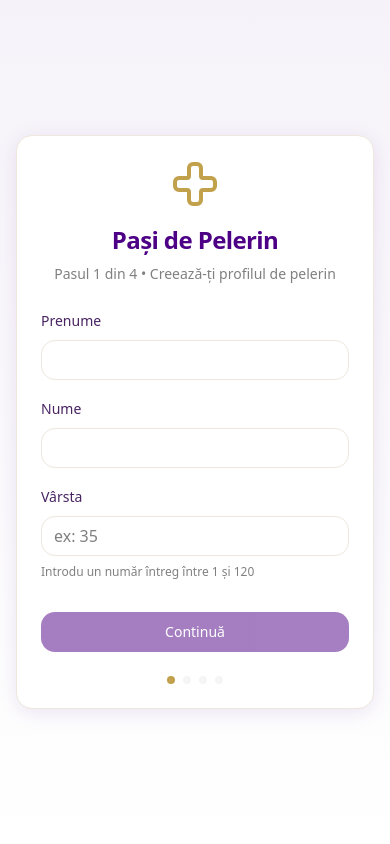
Test case: Onboarding Flow - UI Integration › navigates from step 1 to step 2
Type "Ion" into the field labelled "Prenume".
click(195, 360); type("Ion")  # box [41,340,349,380]
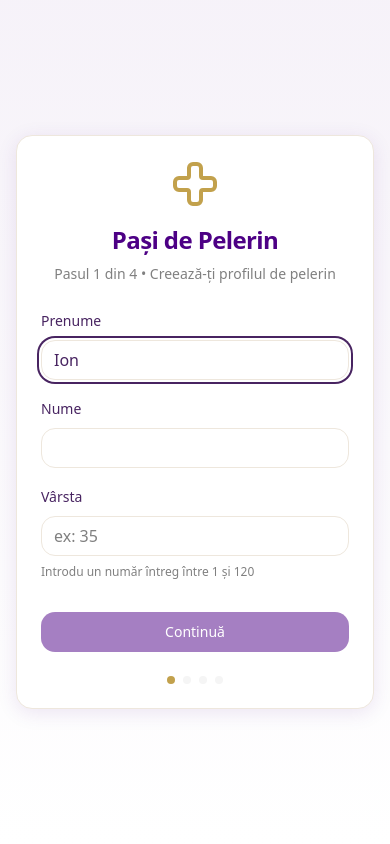
Type "Popescu" into the field labelled "Nume".
click(195, 448); type("Popescu")  # box [41,428,349,468]
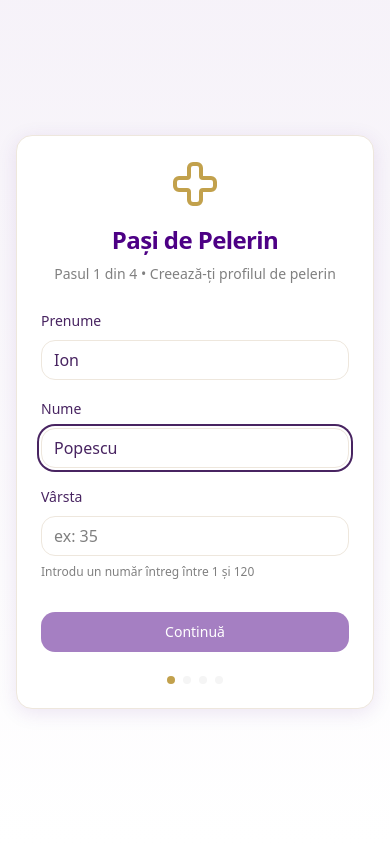
Type "30" into the field labelled "Vârsta".
click(195, 536); type("30")  # box [41,516,349,556]
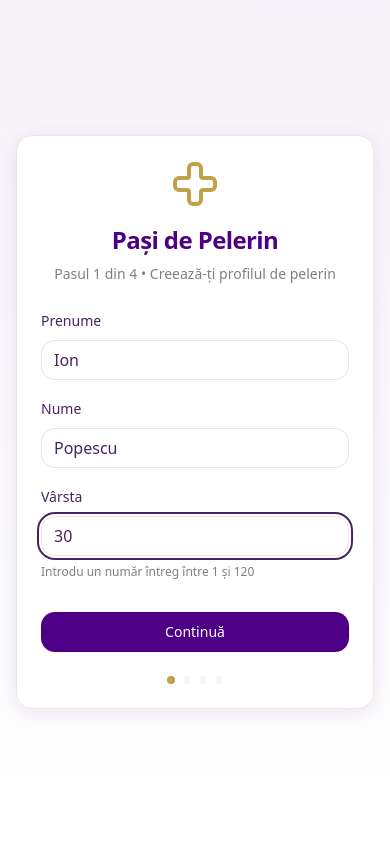
Click the button "Continuă".
click(195, 632)  # box [41,612,349,652]
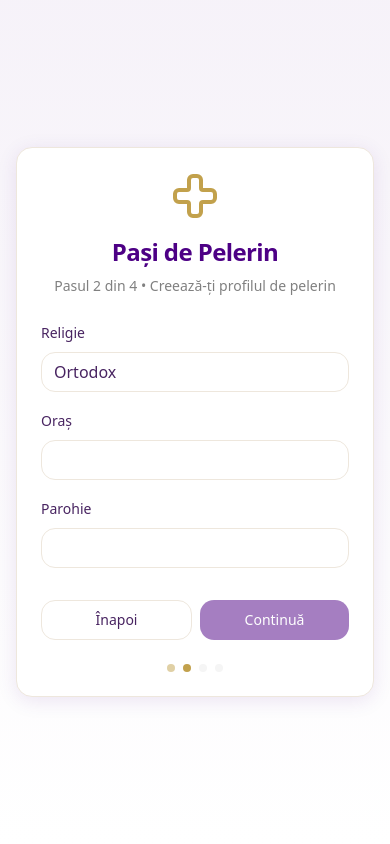
Expected: the field labelled "Religie" is shown, [41,352,349,392]
Expected: the field labelled "Oraș" is shown, [41,440,349,480]
Expected: the field labelled "Parohie" is shown, [41,528,349,568]
